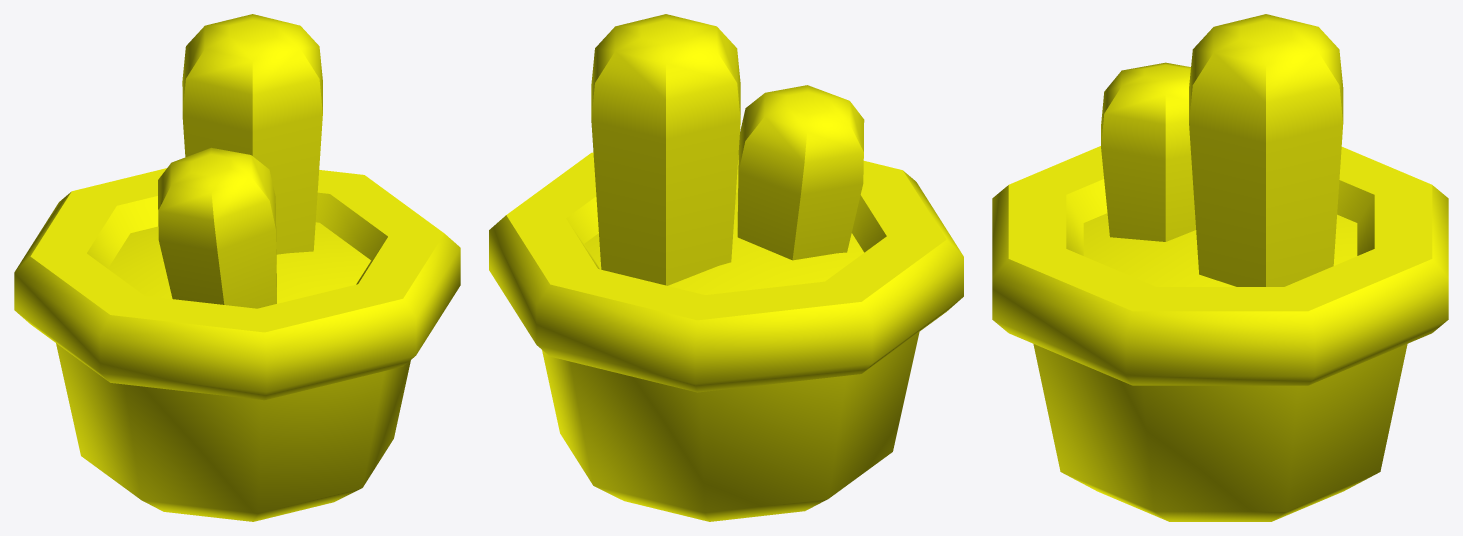
Rendered from kaykit-cactus-small-b.glb.
3 views of the same model, side by side, from view 1: azimuth 30°, elevation 25°; view 2: azimuth 150°, elevation 25°; view 3: azimuth 270°, elevation 25° (orthographic). The views are drawn at different scales.
Visible parts, largest first — view 1: cactus_small_B; view 2: cactus_small_B; view 3: cactus_small_B.
Part boxes in pixels (x1,y1,x2,y2): cactus_small_B: (14,14,460,521); cactus_small_B: (489,14,963,521); cactus_small_B: (992,14,1448,521).
Bounding box in the file's own units: 0.5 × 0.5516 × 0.5.
